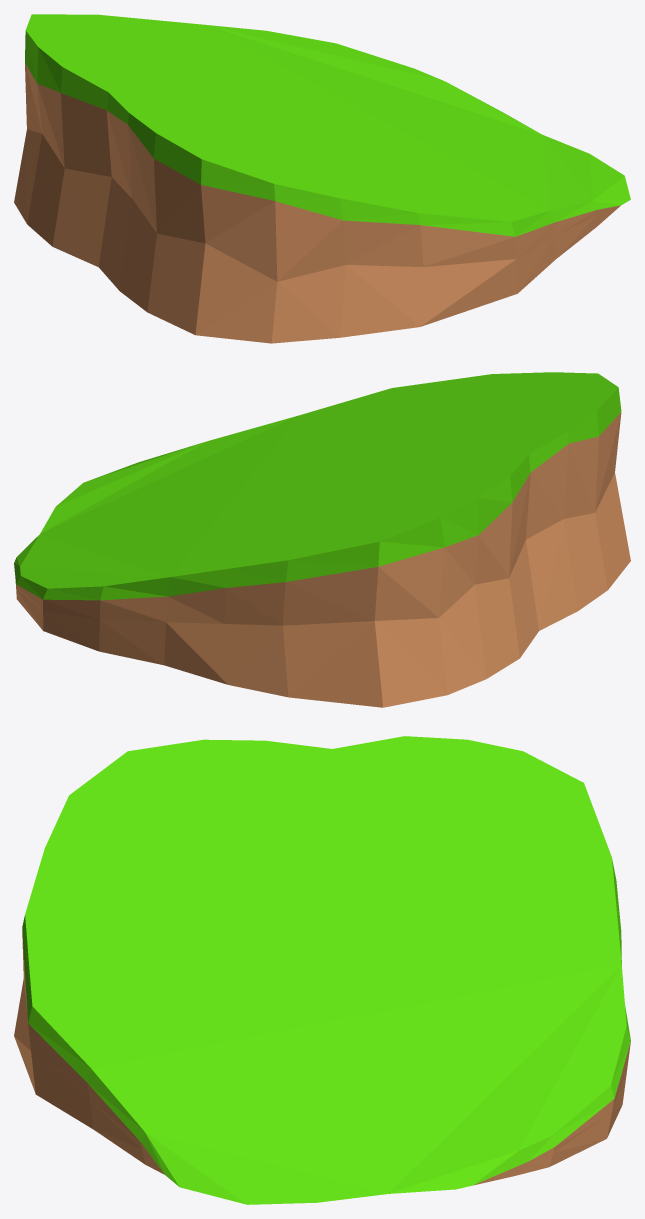
File: Clif_2.fbx
The picture shows the model from 3 angles, top to bottom: view 1: azimuth 30°, elevation 25°; view 2: azimuth 150°, elevation 25°; view 3: azimuth 270°, elevation 25°; orthographic projection. The views are drawn at different scales.
Visible parts, largest first — view 1: Clif_2; view 2: Clif_2; view 3: Clif_2.
Part boxes in pixels (<box>): Clif_2: <box>14,14,630,343</box>; Clif_2: <box>14,372,630,707</box>; Clif_2: <box>14,736,630,1204</box>.
Bounding box in the file's own units: 11.08 × 3.74 × 10.51.
